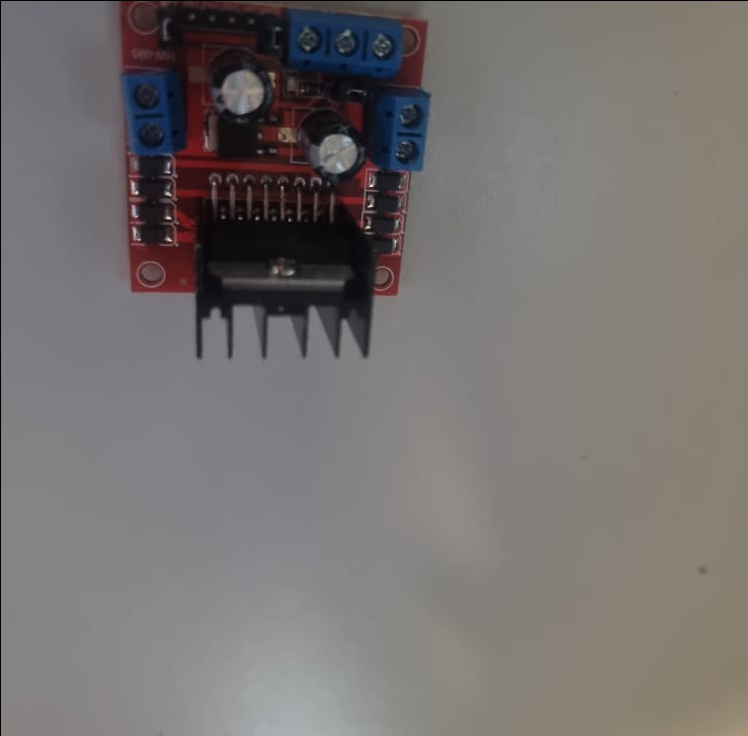MOTOR: (116, 0, 430, 361)
